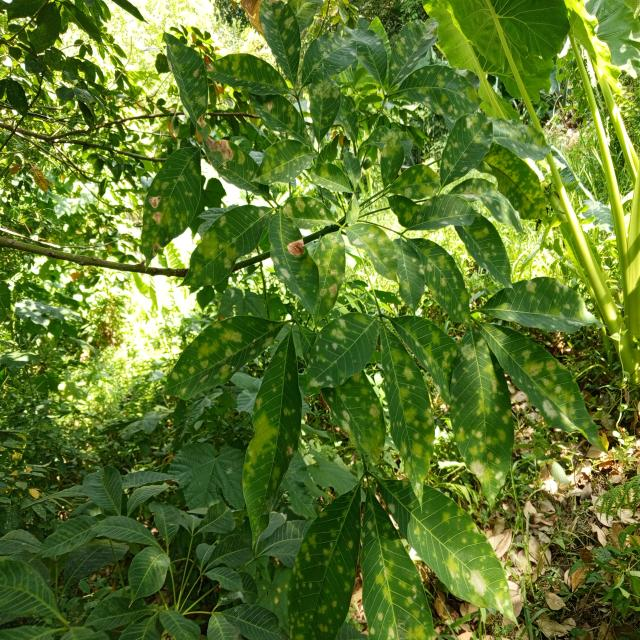Leaf-Blight: (206, 135, 234, 161), (287, 238, 304, 257), (150, 196, 162, 208), (197, 112, 206, 128), (152, 212, 162, 224), (154, 244, 162, 255)
